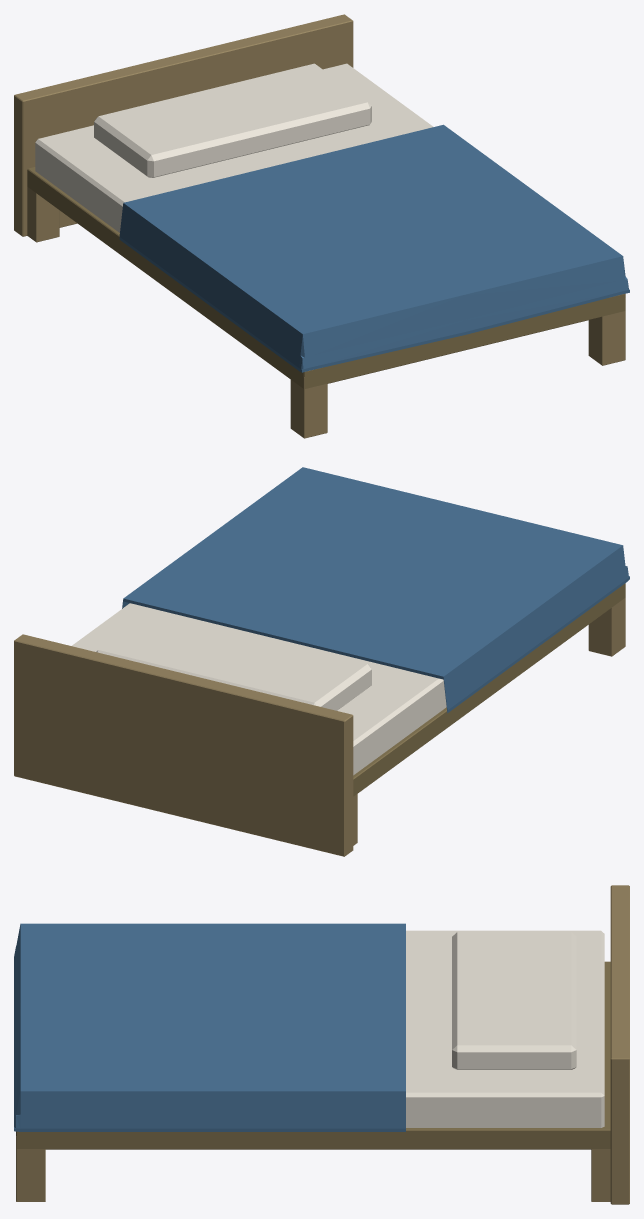
The model's file is bed.glb.
The picture shows the model from 3 angles, top to bottom: view 1: azimuth 30°, elevation 25°; view 2: azimuth 150°, elevation 25°; view 3: azimuth 270°, elevation 25°; orthographic projection. The views are drawn at different scales.
Parts seen in each view (by area): view 1: Bed support; view 2: Bed support; view 3: Bed support.
Boxes of the visible parts, <box> form: Bed support: <box>14,14,629,438</box>; Bed support: <box>14,467,629,856</box>; Bed support: <box>14,885,629,1204</box>.
Bounding box in the file's own units: 1.4 × 0.55 × 2.1.
